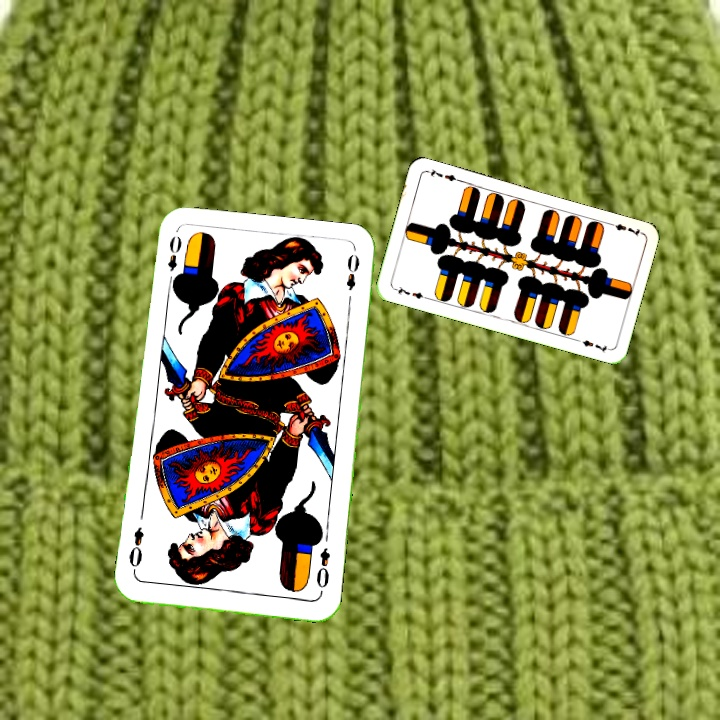E7: (390, 282, 430, 302), (604, 219, 644, 239)
EO: (312, 543, 333, 591), (163, 232, 183, 274)
